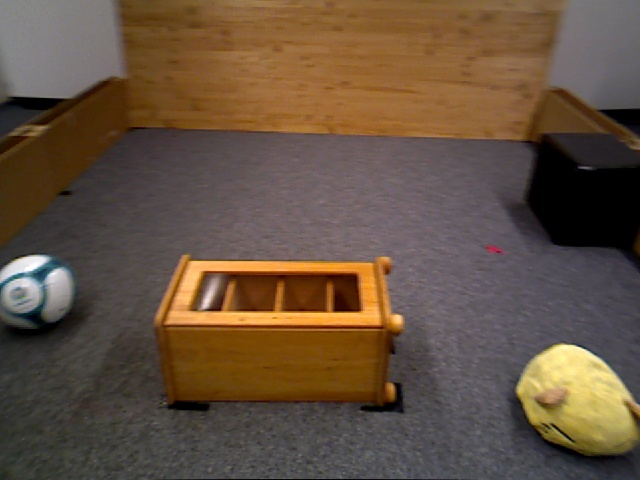grasp: (515, 343, 639, 460)
kick: (1, 255, 76, 331)
push: (536, 134, 639, 249)
